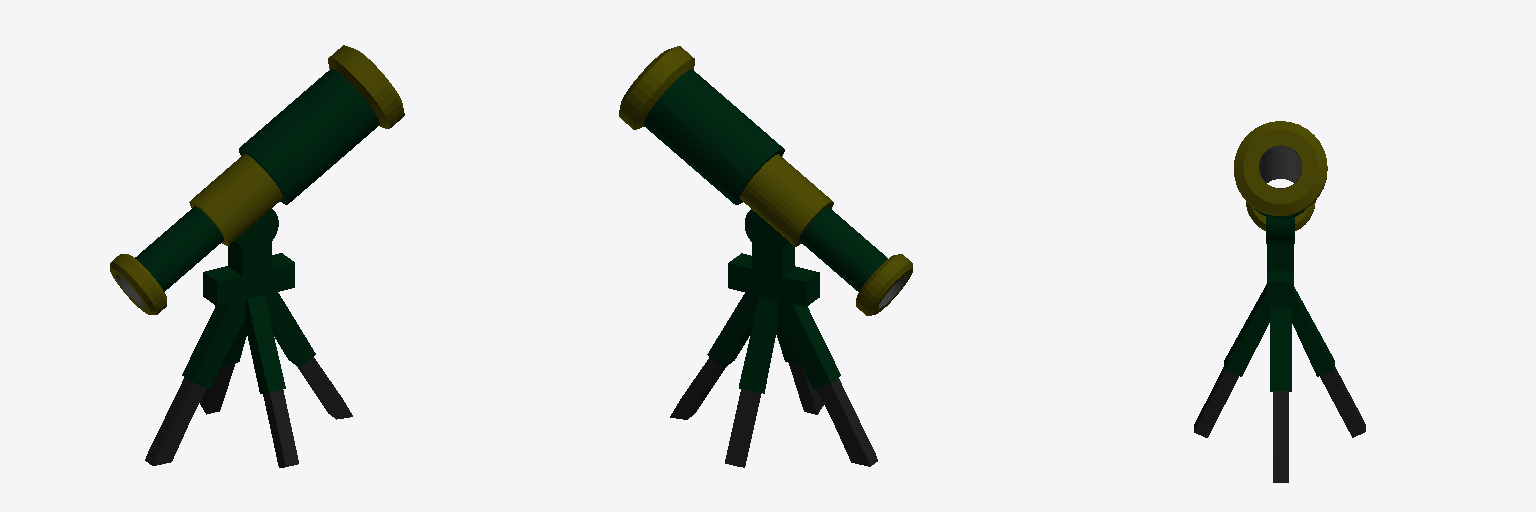
The model's file is Telescope.obj.
The picture shows the model from 3 angles: view 1: azimuth 30°, elevation 25°; view 2: azimuth 150°, elevation 25°; view 3: azimuth 270°, elevation 25°; orthographic projection.
Visible parts, largest first — view 1: Cylinder; view 2: Cylinder; view 3: Cylinder.
Part boxes in pixels (x1,y1,x2,y2): Cylinder: (110,45,404,467); Cylinder: (619,46,912,467); Cylinder: (1194,121,1365,482).
Size of the model in its own units: 6.01 by 7.55 by 3.25.